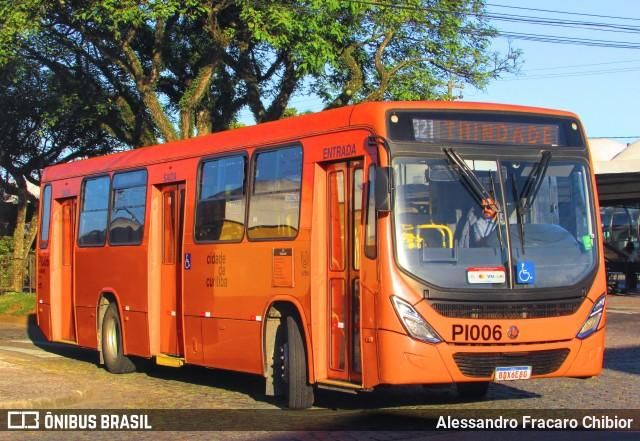TRINDADE: (440, 115, 558, 148)
